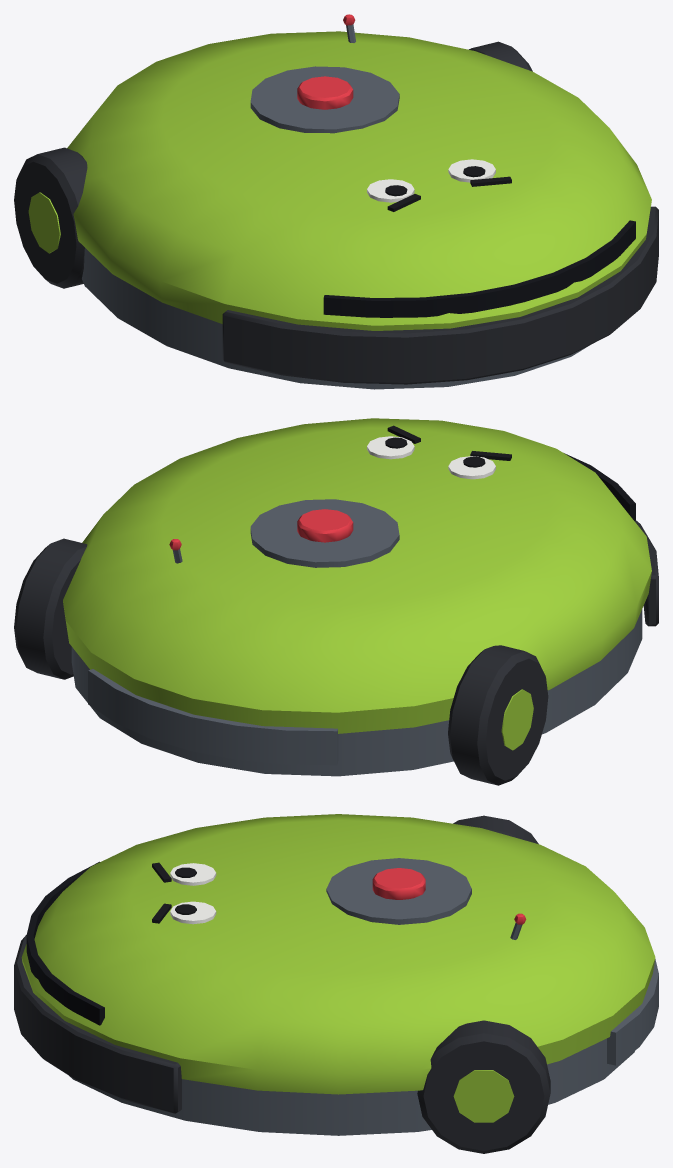
Rendered from robo_mower.glb.
3 renders of one model, top to bottom at view 1: azimuth 30°, elevation 25°; view 2: azimuth 150°, elevation 25°; view 3: azimuth 270°, elevation 25°, orthographic. The views are drawn at different scales.
Parts seen in each view (by area): view 1: body; view 2: body; view 3: body.
Part boxes in pixels (x1=…): body: x1=14, y1=14, x2=658, y2=389; body: x1=14, y1=418, x2=658, y2=785; body: x1=14, y1=814, x2=658, y2=1153.
Bounding box in the file's own units: 91 × 31.4 × 106.
